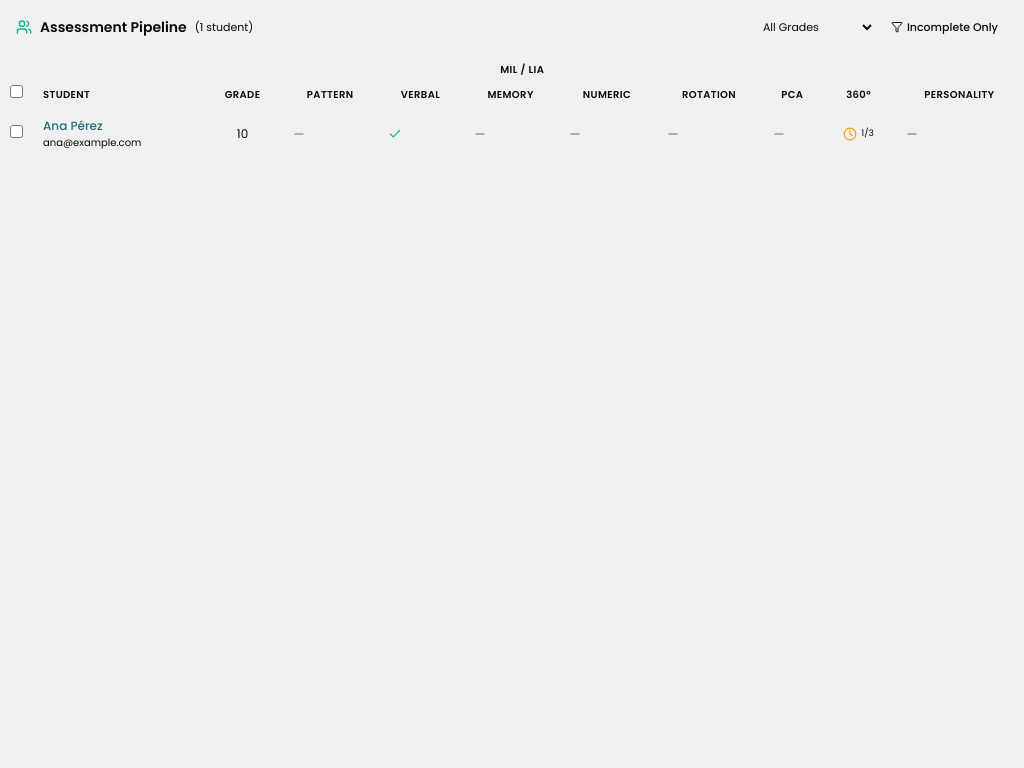
Test case: PipelineTable › labels the subtests MIL / LIA and shows the real PCA separately
expect the column heading "MIL / LIA" is shown: met, box [282,54,762,77]
expect the column heading "PCA" is shown: met, box [762,77,822,111]
Click the text "Ana Pérez" at {"x": 73, "y": 126}, box [43,117,103,134]
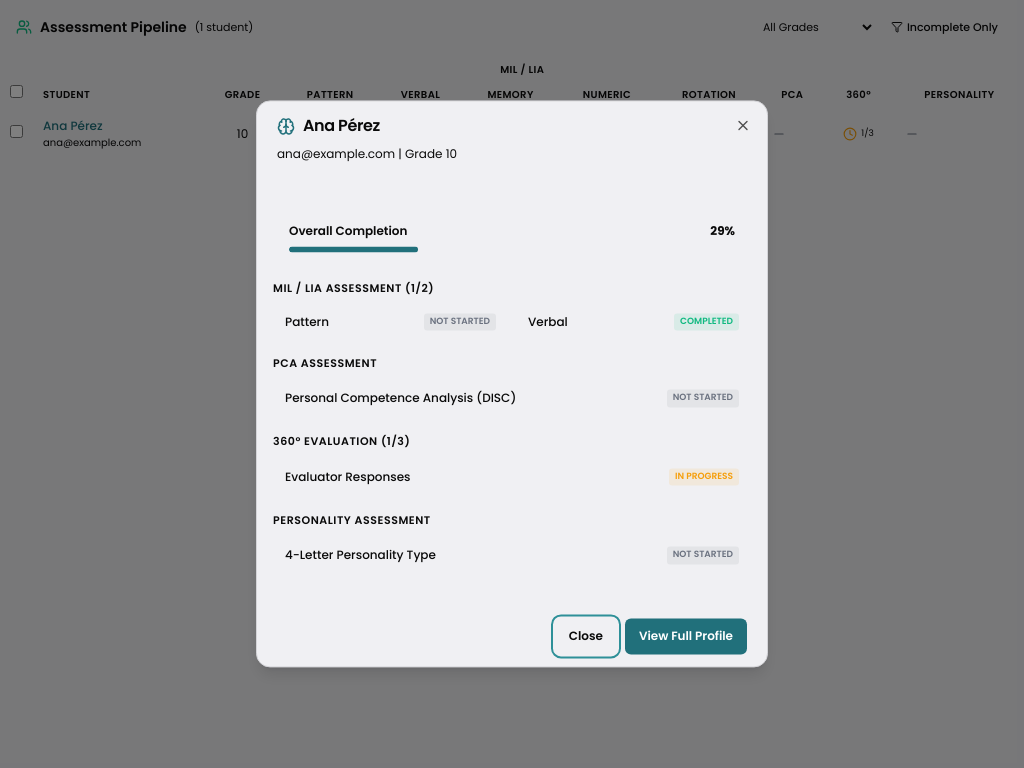
expect the text "MIL / LIA Assessment (1/2)" is shown: met, box [273,281,434,297]
expect the text "Personal Competence Analysis (DISC)" is shown: met, box [285,390,516,408]
